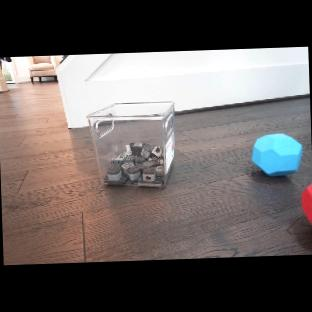V5_BLUE: (251, 132, 303, 177)
V5_RED: (300, 181, 312, 229)
